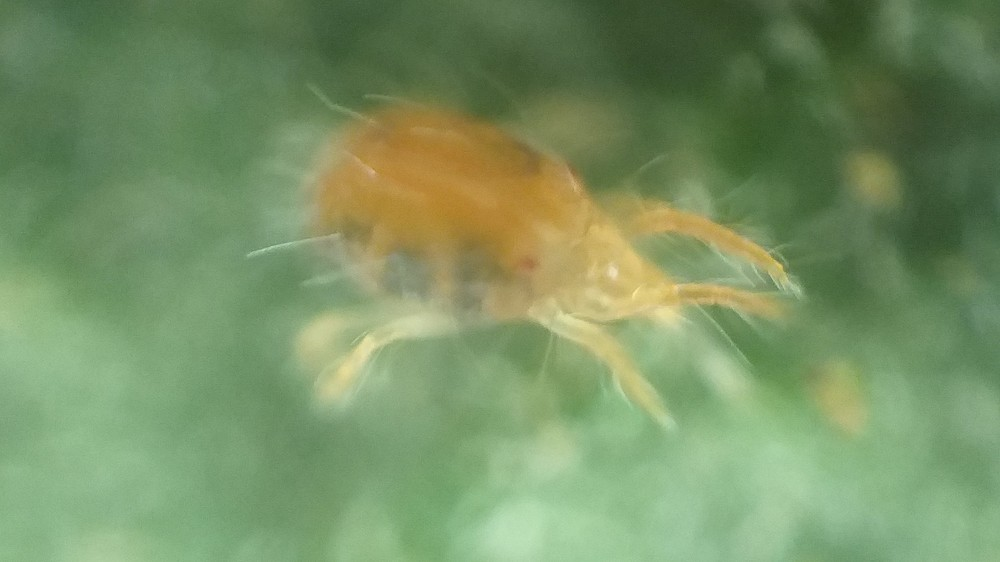Aracnido Rojo: (256, 71, 846, 464)
